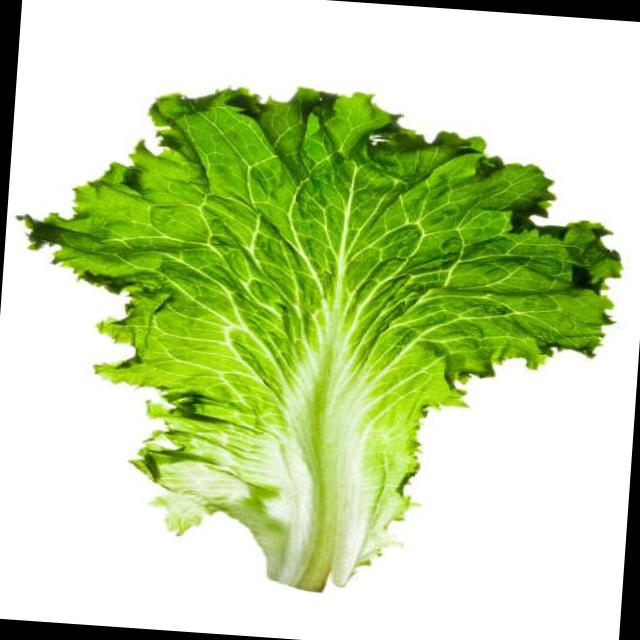Lettuce-Ready-to-Harvest: (24, 88, 619, 590)
